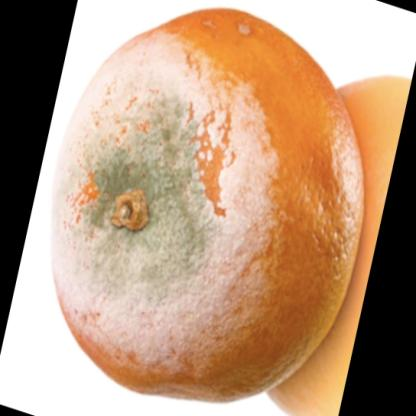rotten: (45, 6, 362, 403)
